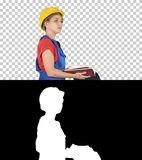helmet: (40, 7, 68, 30)
